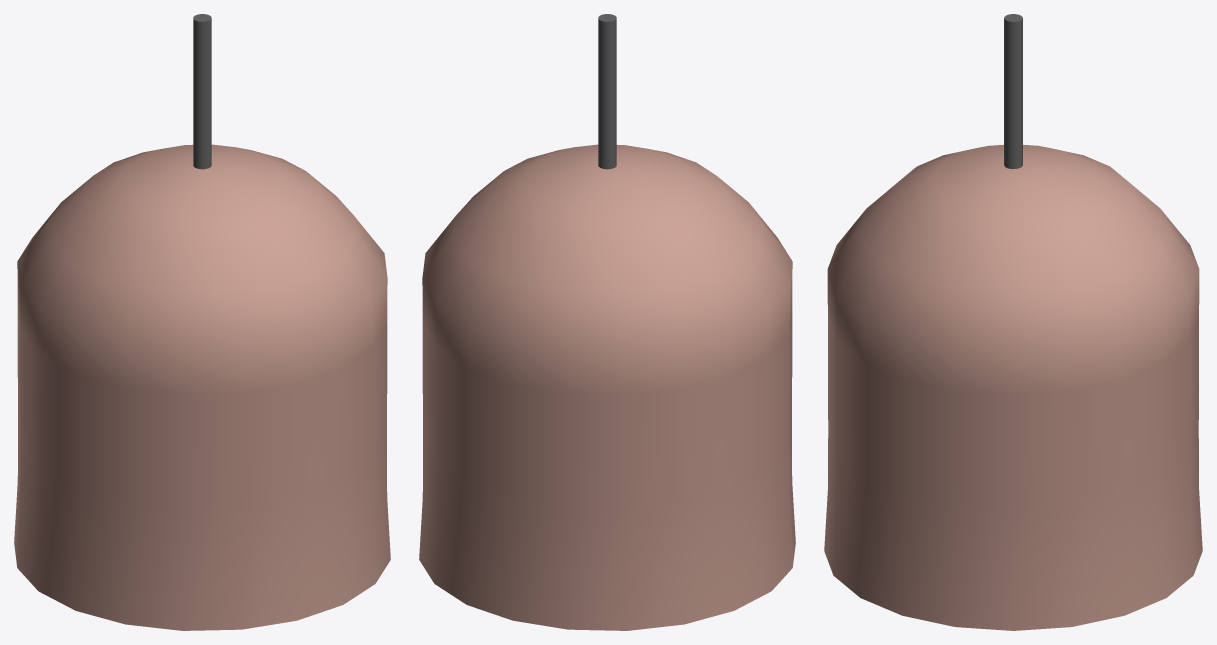
File: lamp.fbx
3 renders of one model, left to right at view 1: azimuth 30°, elevation 25°; view 2: azimuth 150°, elevation 25°; view 3: azimuth 270°, elevation 25°, orthographic.
Parts seen in each view (by area): view 1: pSphere3, pCylinder1; view 2: pSphere3, pCylinder1; view 3: pSphere3, pCylinder1.
Part boxes in pixels (x1,y1,x2,y2): pSphere3: (14, 144, 390, 630); pCylinder1: (193, 14, 211, 169); pSphere3: (419, 144, 795, 630); pCylinder1: (598, 14, 616, 169); pSphere3: (824, 144, 1202, 630); pCylinder1: (1004, 14, 1022, 168).
Size of the model in its own units: 1.85 by 2.87 by 1.85.
